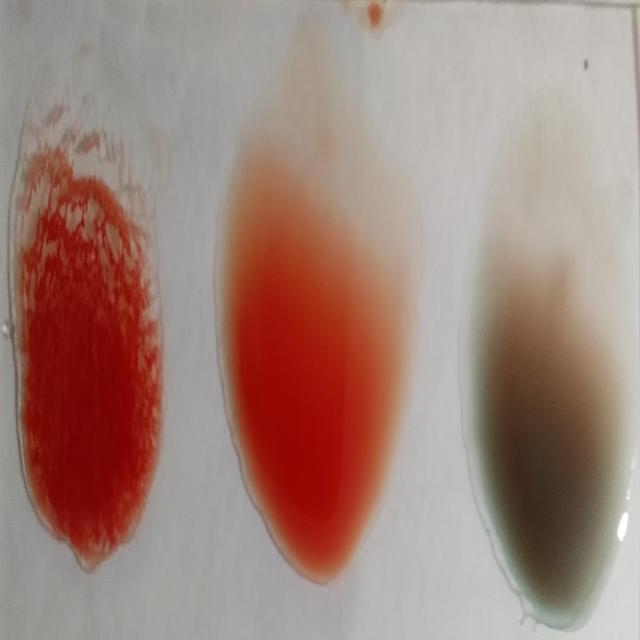D: (12, 83, 160, 559)
